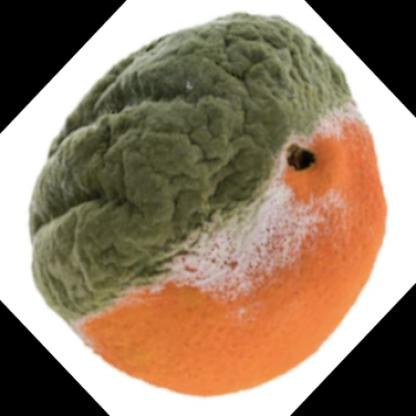rotten: (29, 15, 389, 399)
